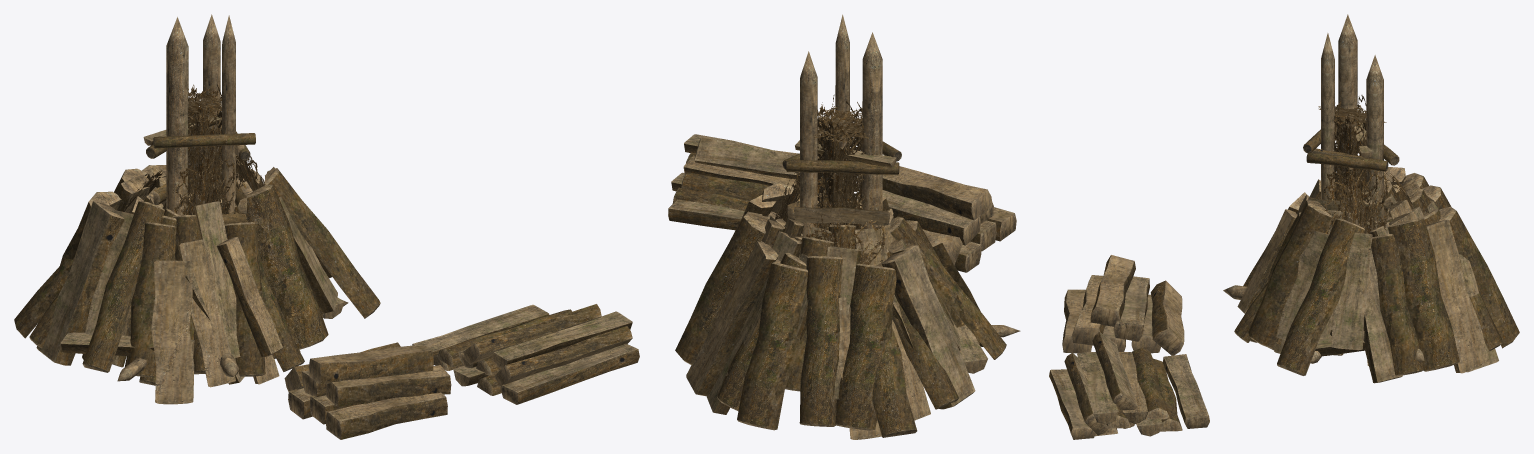
File: CoalerPile_Construction_Stage2.fbx
3 views of the same model, side by side, from view 1: azimuth 30°, elevation 25°; view 2: azimuth 150°, elevation 25°; view 3: azimuth 270°, elevation 25° (orthographic). The views are drawn at different scales.
Visible parts, largest first — view 1: CoalerPile_Construction_Stage2, CoalerPile_ConstructionWood1_Stage2; view 2: CoalerPile_Construction_Stage2, CoalerPile_ConstructionWood1_Stage2; view 3: CoalerPile_Construction_Stage2, CoalerPile_ConstructionWood1_Stage2.
Boxes of the visible parts, bbox=[...] form: CoalerPile_Construction_Stage2: bbox=[14, 14, 380, 404]; CoalerPile_ConstructionWood1_Stage2: bbox=[284, 304, 639, 439]; CoalerPile_Construction_Stage2: bbox=[675, 14, 1020, 439]; CoalerPile_ConstructionWood1_Stage2: bbox=[668, 134, 1016, 272]; CoalerPile_Construction_Stage2: bbox=[1223, 14, 1519, 383]; CoalerPile_ConstructionWood1_Stage2: bbox=[1049, 255, 1209, 439].
Bounding box in the file's own units: 445 × 342 × 456.
